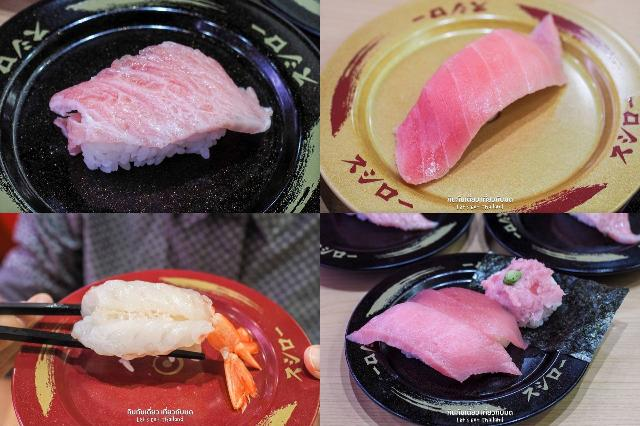janback: (0, 16, 69, 208), (354, 344, 505, 426), (59, 171, 322, 216), (481, 213, 640, 271), (57, 0, 240, 46), (317, 212, 475, 257), (239, 0, 324, 79), (514, 352, 601, 426), (275, 76, 321, 170), (355, 263, 481, 294)
jangold: (571, 9, 640, 216), (326, 4, 396, 171), (324, 182, 616, 215), (400, 0, 587, 40), (504, 96, 581, 181)
